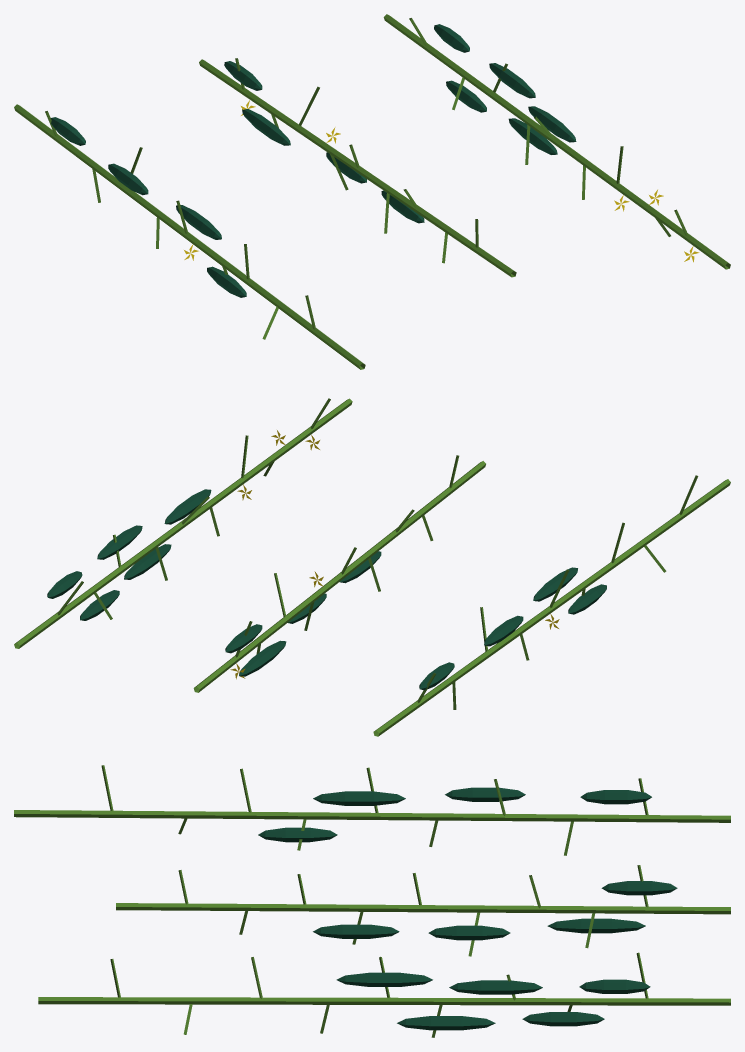
Rendered from r24c3_stems.obj.
3 renders of one model, top to bottom at view 1: azimuth 30°, elevation 25°; view 2: azimuth 150°, elevation 25°; view 3: azimuth 270°, elevation 25°, orthographic. The views are drawn at different scales.
Parts seen in each view (by area): view 1: r24c3_stems; view 2: r24c3_stems; view 3: r24c3_stems.
Boxes of the visible parts, x1,y1,x2,y2 form: r24c3_stems: (14, 14, 730, 369); r24c3_stems: (14, 398, 730, 736); r24c3_stems: (14, 765, 730, 1037).
Size of the model in its own units: 1.39 by 0.2665 by 2.07.
